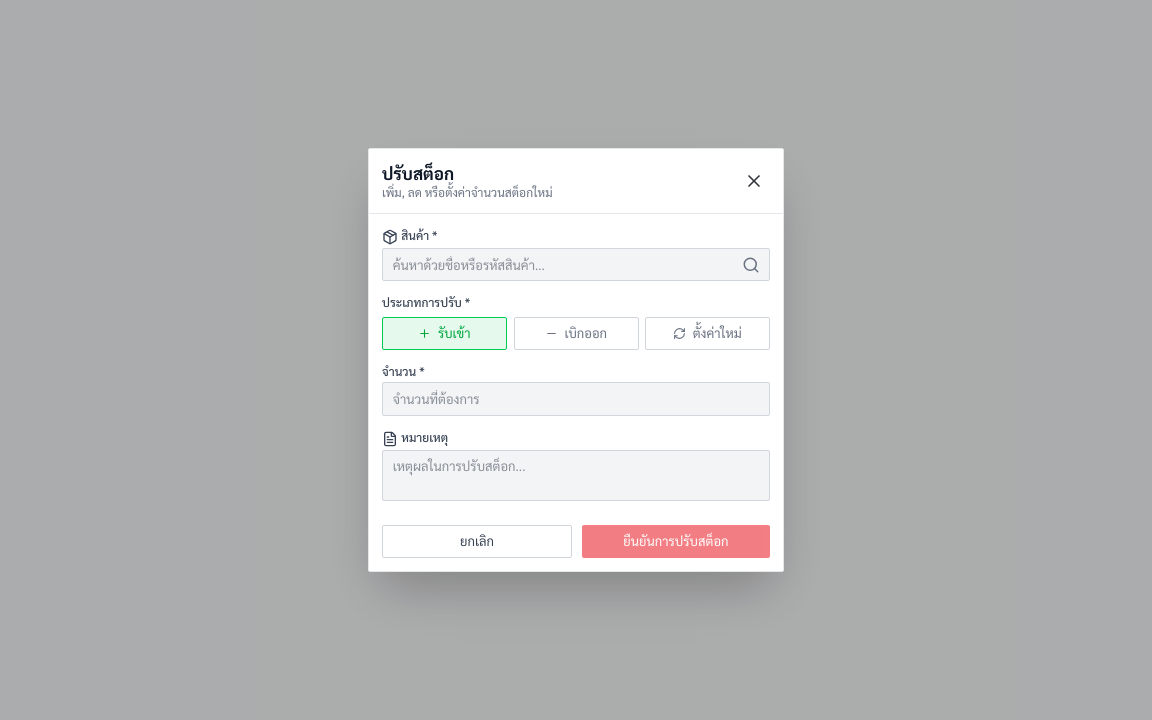
Test: StockAdjustmentModal Component › Item Search Functionality › selects item when clicked from dropdown
In the field with placeholder "ค้นหาด้วยชื่อหรือรหัสสินค้า...": (576, 265) [382,248,770,281], type "น้ำ"
Wait 300 ms
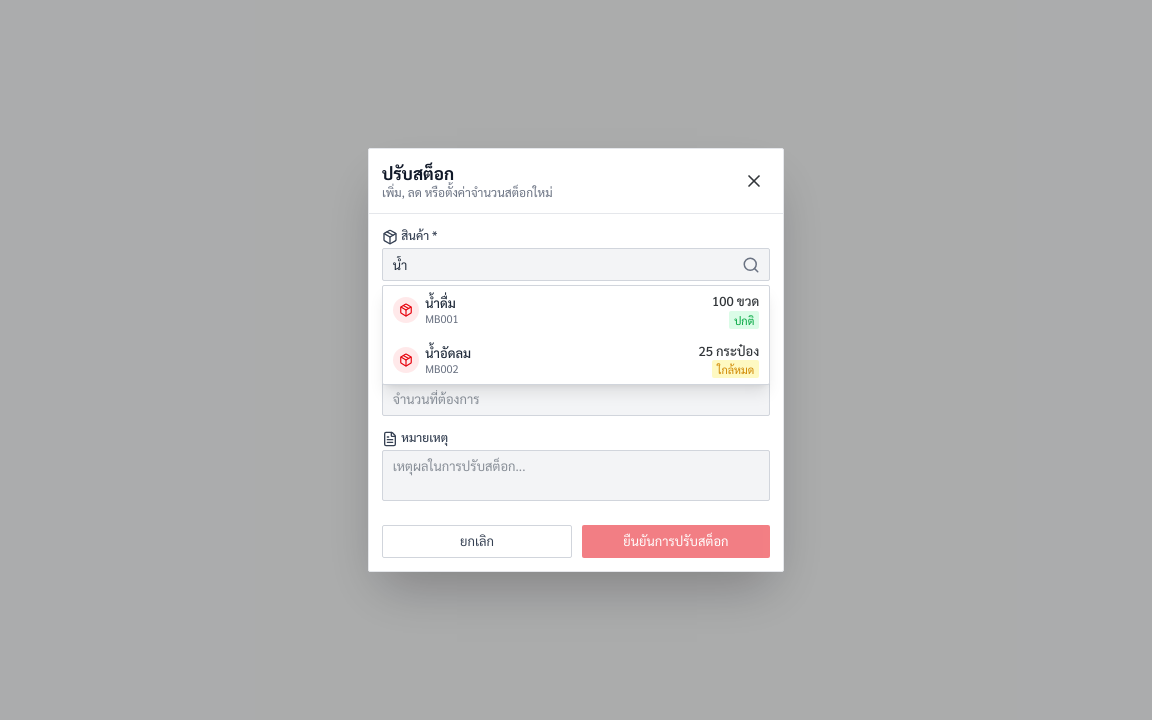
Result: the text "น้ำดื่ม" is shown
# Click on the first item
Click the text "น้ำดื่ม": (442, 303) [425,294,459,312]
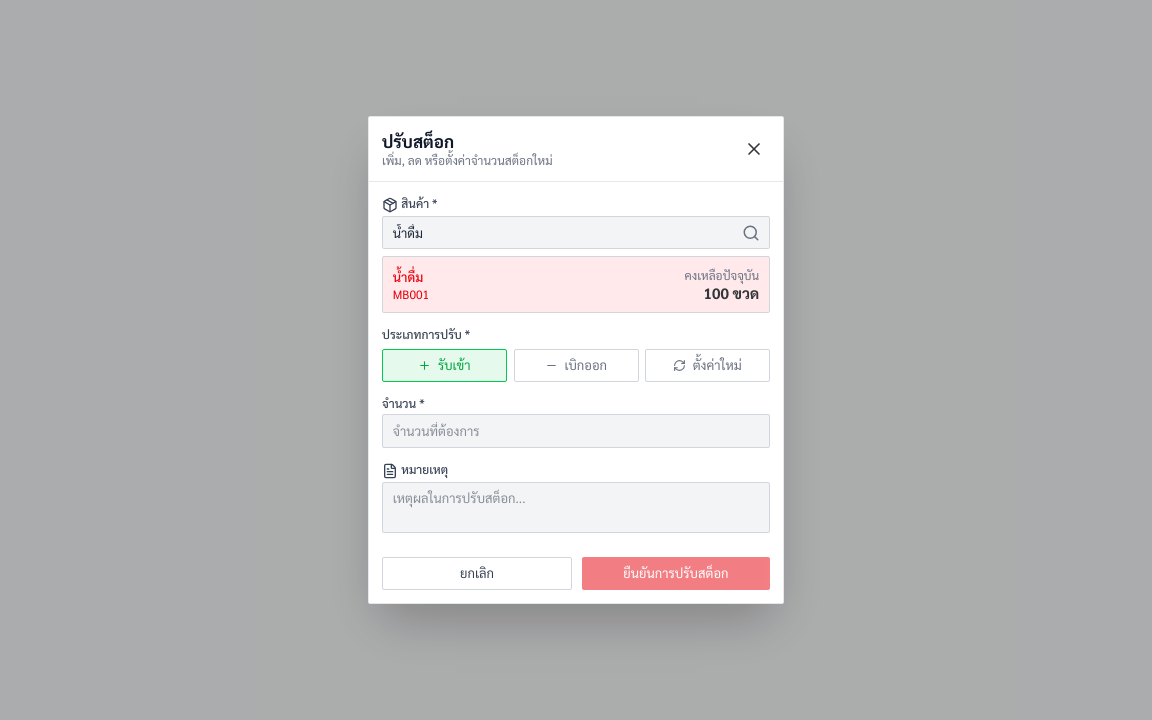
Result: the text "100 ขวด" is shown at [704,283,759,302]
Result: the text "คงเหลือปัจจุบัน" is shown at [685,267,759,283]
